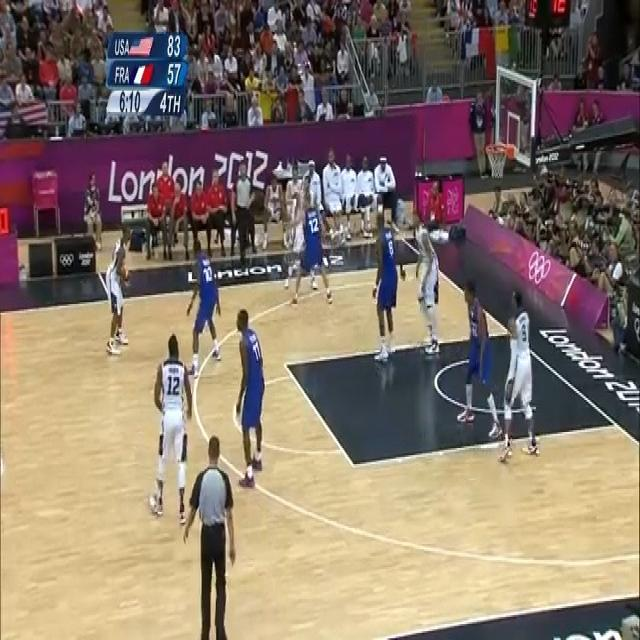basketball: (120, 268, 134, 292)
hoop: (486, 146, 509, 181)
person: (232, 307, 263, 482), (460, 283, 491, 423), (189, 239, 223, 361), (370, 221, 397, 349), (106, 223, 133, 346), (416, 232, 442, 351), (371, 156, 394, 230)
